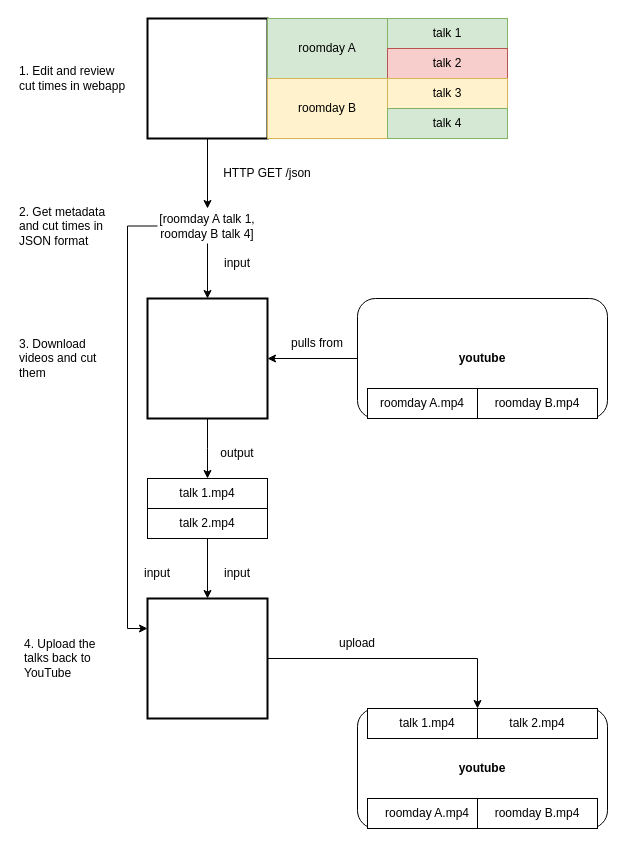
Image size: 625x846. Some labels were removed from this diagram. The shapes that lost their labels are listed below. From the top down, each one's box as (x1, y1, x2, y2) in pixels, then its label:
(146, 17, 268, 139): scale-av-cutter webapp
(146, 297, 268, 419): split.py
(146, 597, 268, 719): upload.py
